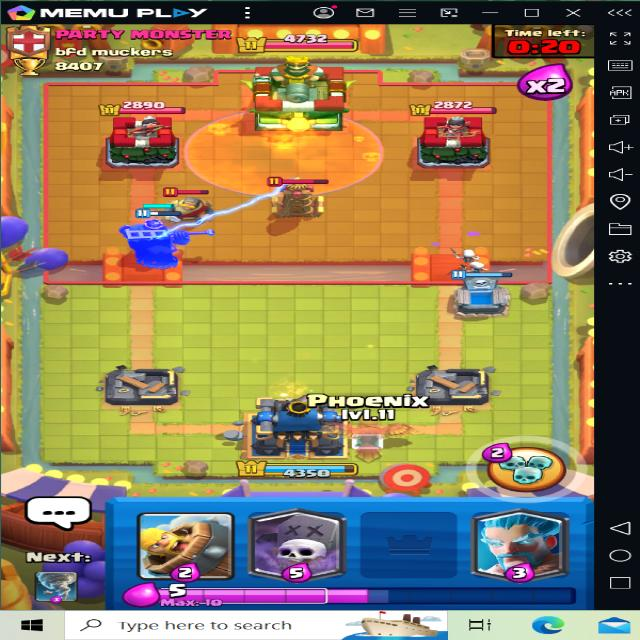knight: (151, 184, 226, 224)
tesla: (253, 171, 332, 225)
